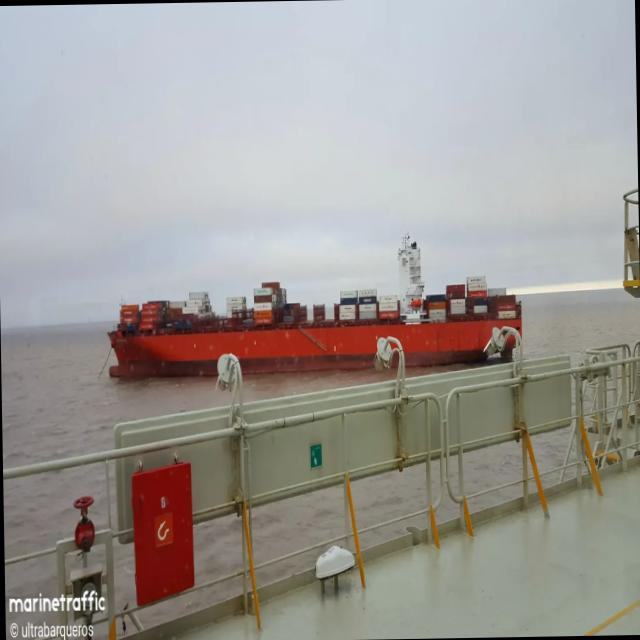Cargo: (108, 234, 521, 378)
